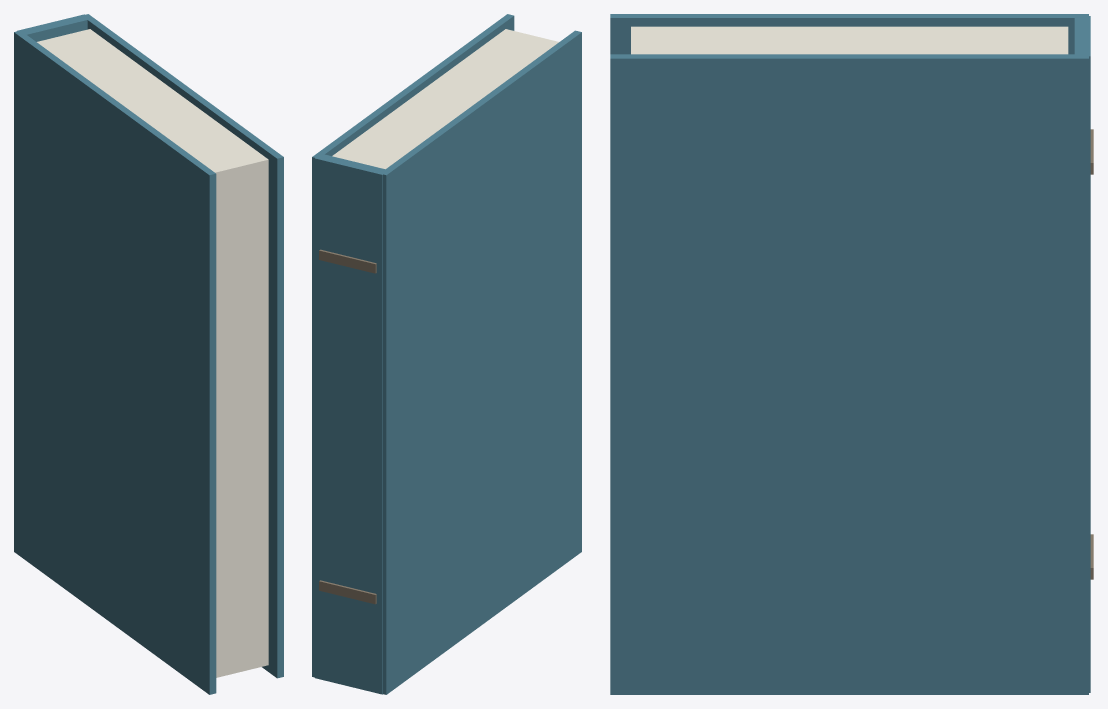
The model's file is book-blue.glb.
3 renders of one model, left to right at view 1: azimuth 30°, elevation 25°; view 2: azimuth 150°, elevation 25°; view 3: azimuth 270°, elevation 25°, orthographic. The views are drawn at different scales.
Visible parts, largest first — view 1: book-blue; view 2: book-blue; view 3: book-blue.
Part boxes in pixels (box(x1,y1,x2,y2)): book-blue: box(14, 14, 283, 694); book-blue: box(312, 14, 581, 694); book-blue: box(610, 14, 1093, 694).
Bounding box in the file's own units: 0.033 × 0.22 × 0.1515.
